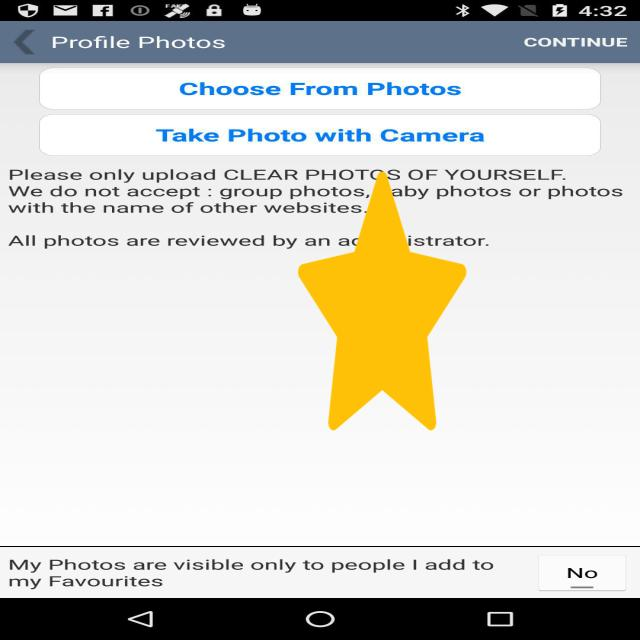forced continuity: (298, 171, 466, 431)
